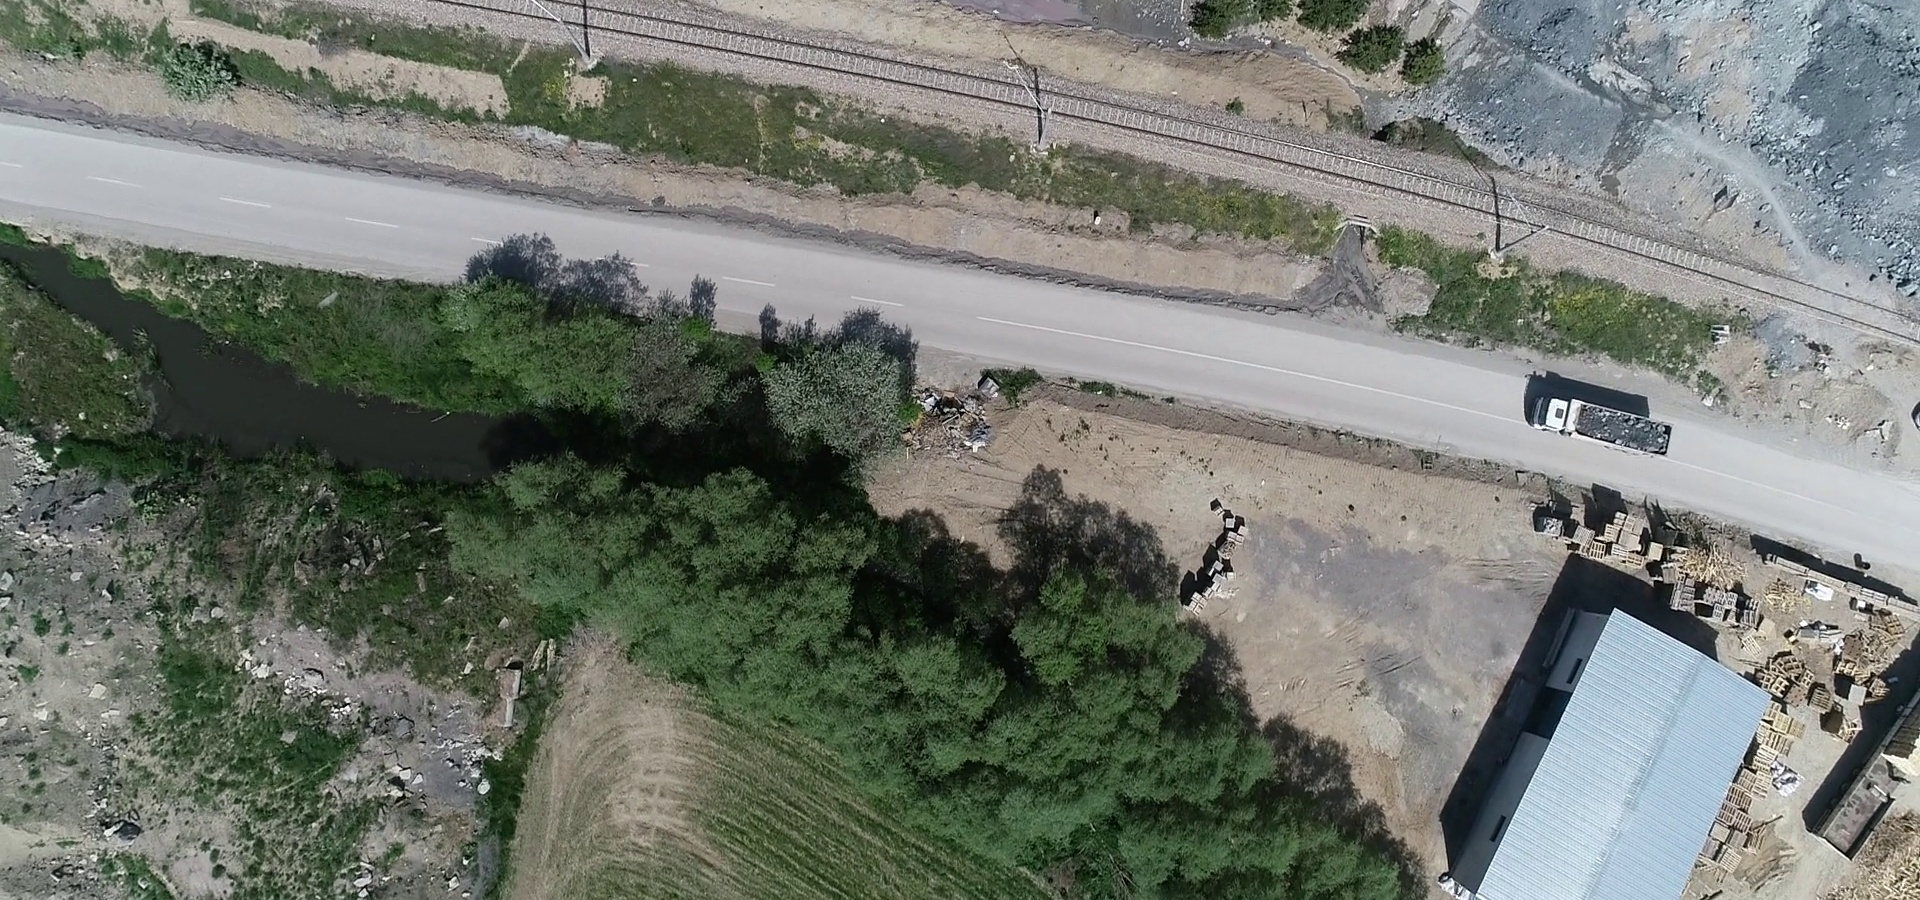kamyon: (1523, 388, 1673, 460)
